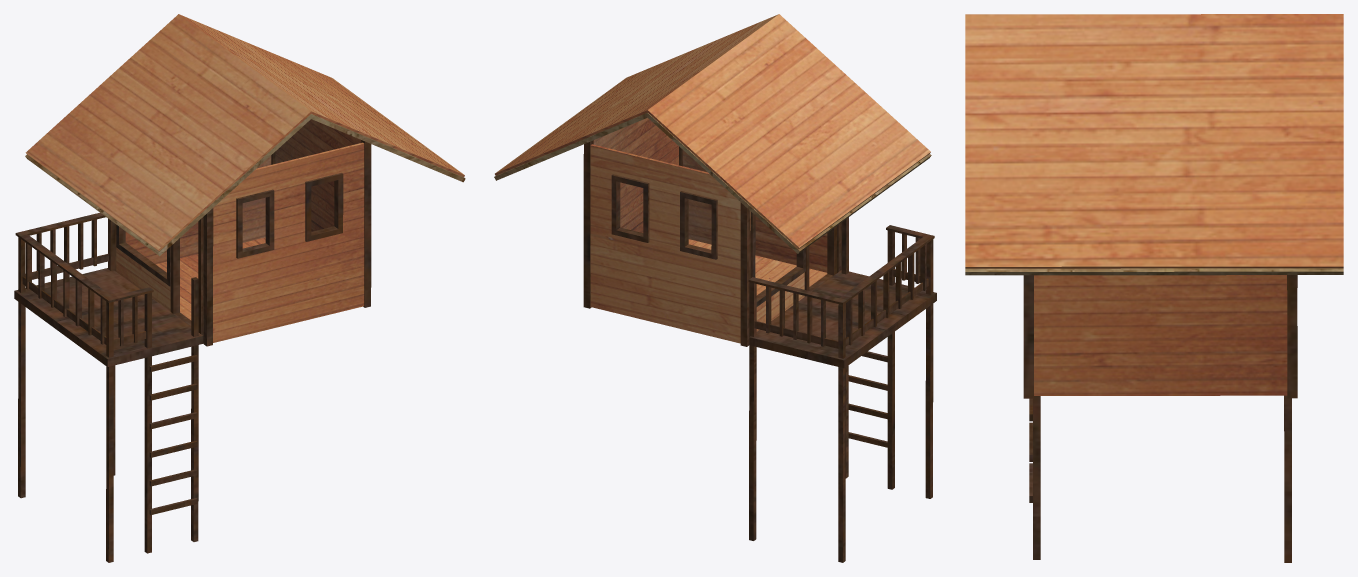
The model's file is Casa.obj.
3 renders of one model, left to right at view 1: azimuth 30°, elevation 25°; view 2: azimuth 150°, elevation 25°; view 3: azimuth 270°, elevation 25°, orthographic. The views are drawn at different scales.
Visible parts, largest first — view 1: 10783_TreeHouse_v7_LOD3; view 2: 10783_TreeHouse_v7_LOD3; view 3: 10783_TreeHouse_v7_LOD3.
Boxes of the visible parts, x1=… form: 10783_TreeHouse_v7_LOD3: x1=14, y1=14, x2=465, y2=562; 10783_TreeHouse_v7_LOD3: x1=494, y1=14, x2=936, y2=562; 10783_TreeHouse_v7_LOD3: x1=965, y1=14, x2=1343, y2=562.
Bounding box in the file's own units: 99.07 × 120 × 67.79.
